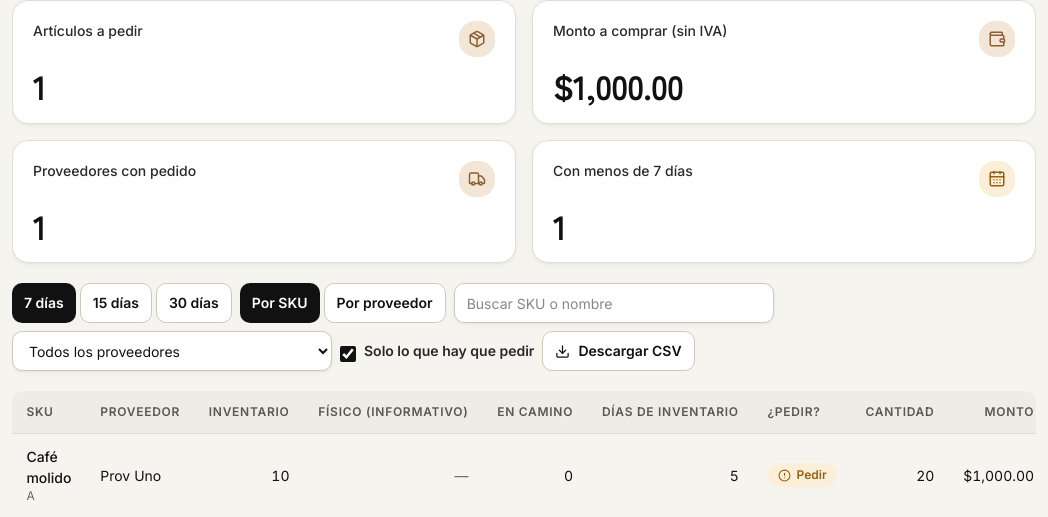
Scenario: Qué pedir › vista por proveedor agrupa en pesos
Click the button "Por proveedor" at (385, 303), box [324, 283, 446, 323]
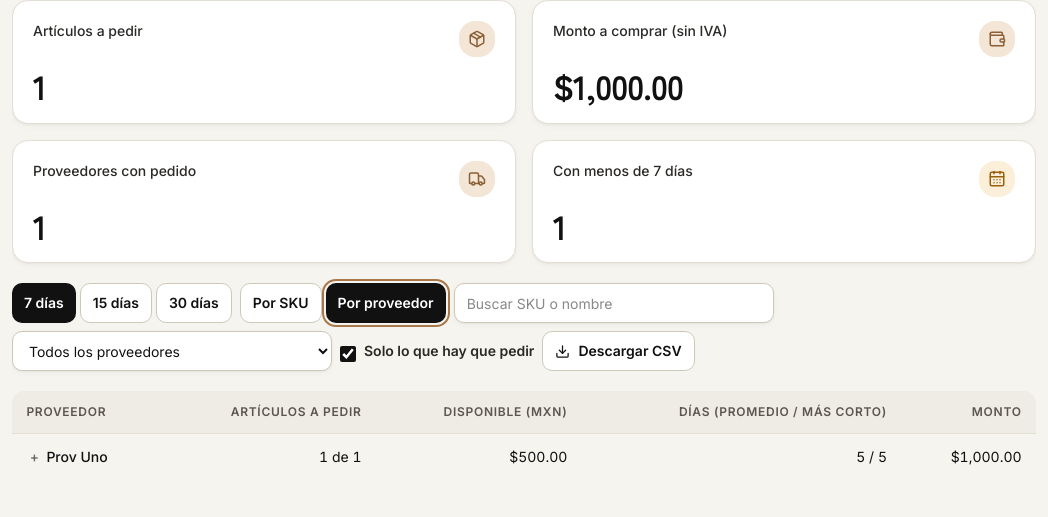
Now the cell "+ Prov Uno" is shown, box [12, 434, 161, 479]
